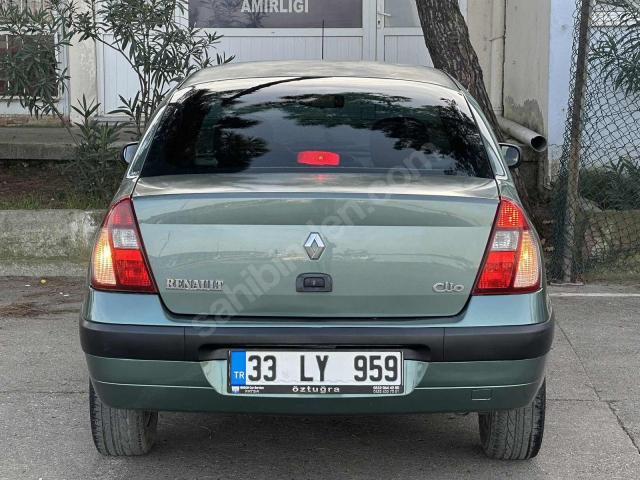plaka: (227, 350, 405, 394)
